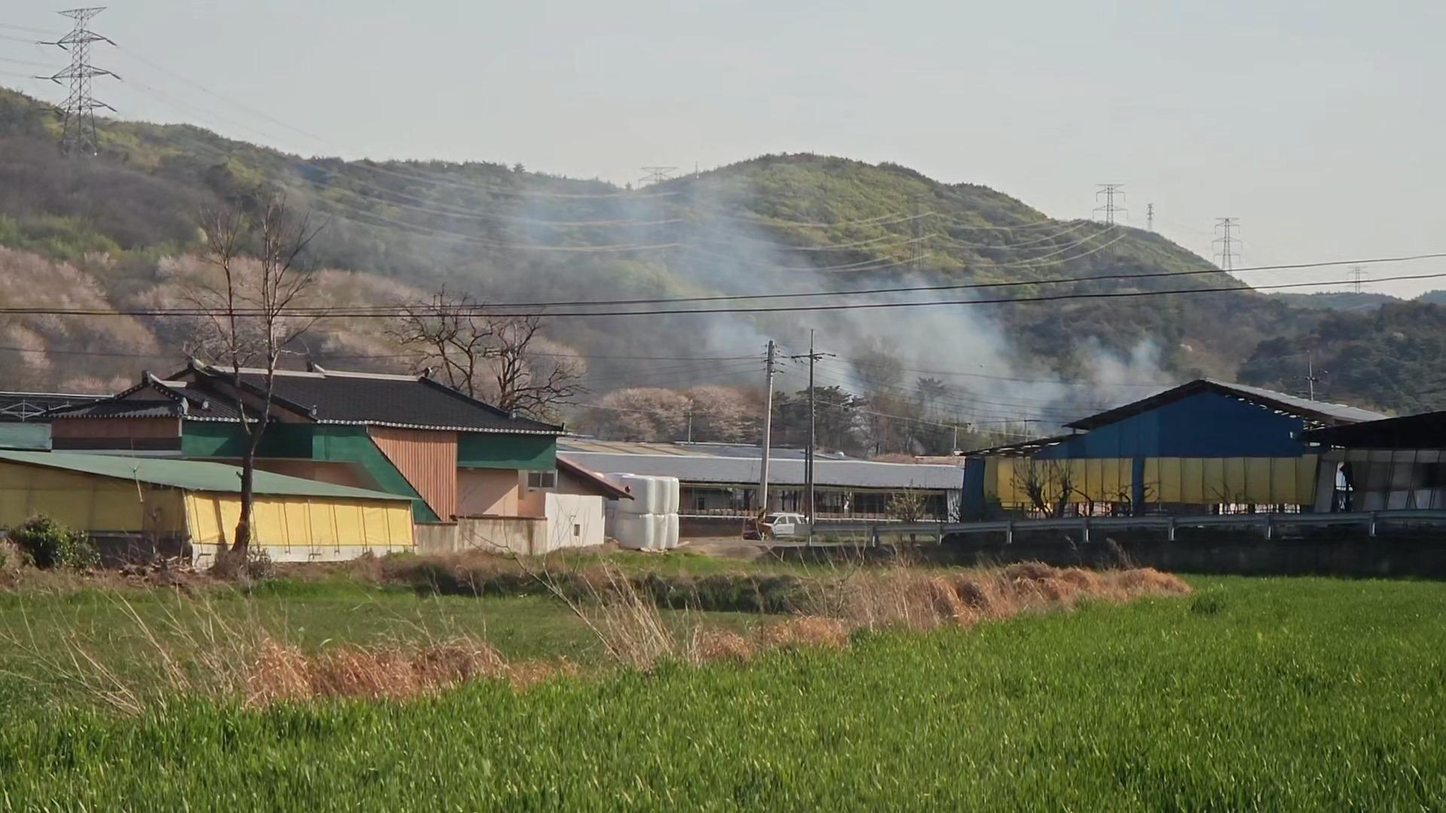smoke: (543, 159, 1164, 443)
